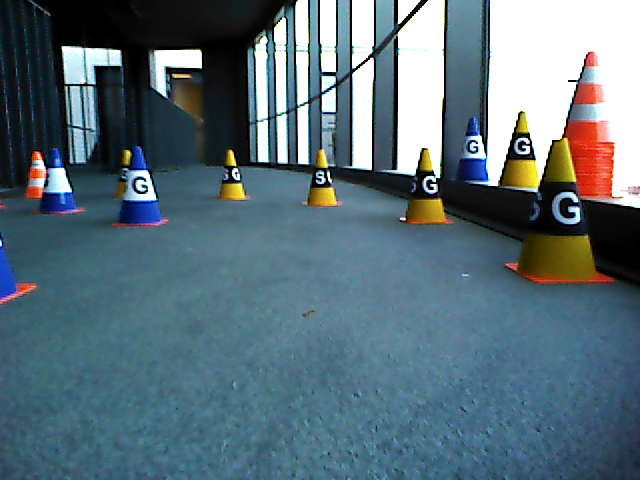bluecone: (123, 147, 159, 221), (41, 148, 76, 211), (458, 118, 487, 180)
orangeconesmall: (564, 52, 613, 139), (28, 151, 44, 198)
yellowcone: (522, 141, 593, 274), (501, 113, 540, 187), (408, 149, 445, 220), (310, 150, 335, 204), (219, 150, 244, 195)
